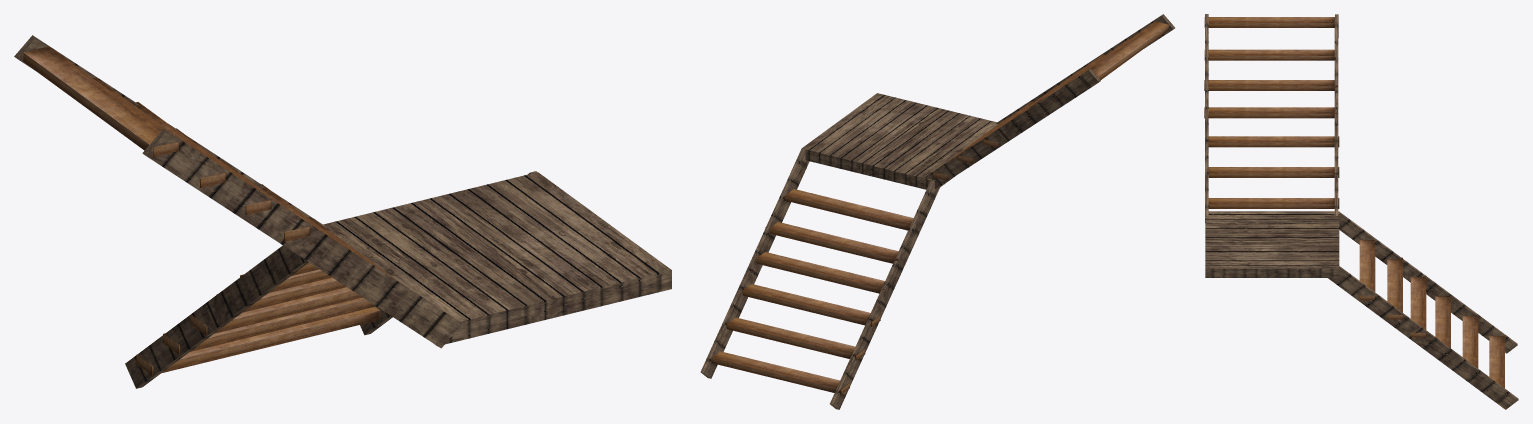
The model's file is L shaped stairs.gltf.
3 views of the same model, side by side, from view 1: azimuth 30°, elevation 25°; view 2: azimuth 150°, elevation 25°; view 3: azimuth 270°, elevation 25° (orthographic). The views are drawn at different scales.
Parts seen in each view (by area): view 1: Küp16, Küp8, Küp17, Küp1, Küp10, Küp11, Küp12, Küp13, Küp9, Küp6, Küp7; view 2: Küp16, Küp9, Küp17, Küp, Küp11, Küp12, Küp10, Küp14, Küp13, Küp15, Küp1, Küp8; view 3: Küp16, Küp, Küp17, Küp4, Küp5, Küp7, Küp3, Küp2, Küp6, Küp1, Küp9, Küp13 (+6 smaller).
Boxes of the visible parts, x1,y1,x2,y2 form: Küp16: (323,172,671,346); Küp8: (142,128,462,348); Küp17: (125,245,308,388); Küp1: (20,46,179,157); Küp10: (136,307,380,375); Küp11: (163,297,376,354); Küp12: (190,287,362,335); Küp13: (216,277,346,312); Küp9: (14,35,327,228); Küp6: (136,102,271,215); Küp7: (93,77,226,188); Küp16: (802,93,997,189); Küp9: (924,69,1100,188); Küp17: (830,180,940,409); Küp: (700,148,809,378); Küp11: (727,317,865,360); Küp12: (742,284,880,326); Küp10: (712,351,849,394); Küp14: (765,222,898,263); Küp13: (756,252,885,293); Küp15: (785,189,913,230); Küp1: (1086,21,1169,79); Küp8: (996,14,1174,123); Küp16: (1205,211,1339,277); Küp: (1328,266,1518,409); Küp17: (1339,212,1517,353); Küp4: (1208,136,1339,147); Küp5: (1204,107,1338,118); Küp7: (1204,49,1334,60); Küp3: (1208,167,1339,177); Küp2: (1208,198,1339,208); Küp6: (1204,80,1338,90); Küp1: (1204,17,1334,27); Küp9: (1334,14,1338,215); Küp13: (1410,276,1426,337).
Size of the model in its own units: 2 by 1.98 by 2.07.
Materials: 18 (18 with a texture image).
